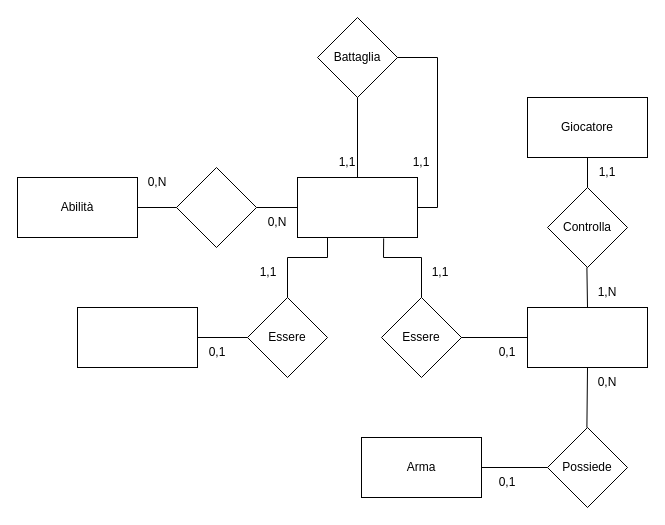
This 665x525 diagram has some shape labels left out. The centre of each missing label's shape, as x and y in pixels:
"Entitá" belongs at (357,207).
"Ha" belongs at (216,207).
"Nemico" belongs at (137,337).
"Personaggio" belongs at (587,337).
